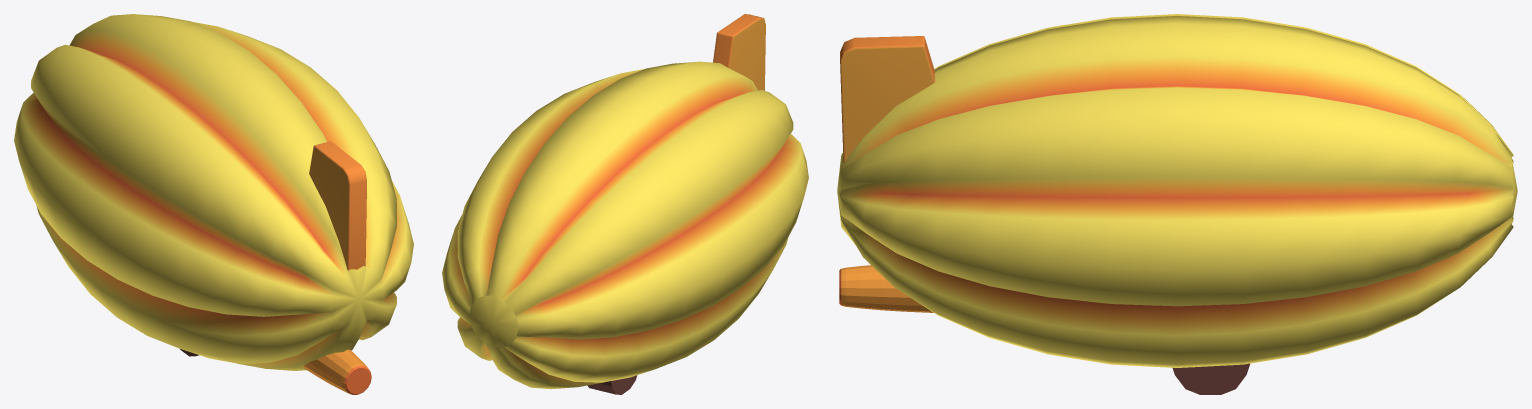
The model's file is Airship-2.fbx.
3 renders of one model, left to right at view 1: azimuth 30°, elevation 25°; view 2: azimuth 150°, elevation 25°; view 3: azimuth 270°, elevation 25°, orthographic. The views are drawn at different scales.
Parts seen in each view (by area): view 1: AirShip-2; view 2: AirShip-2; view 3: AirShip-2.
Part boxes in pixels (x1,y1,x2,y2): AirShip-2: (14,14,413,394); AirShip-2: (442,14,808,394); AirShip-2: (837,14,1517,394).
Size of the model in its own units: 1357 by 1471 by 2501.
